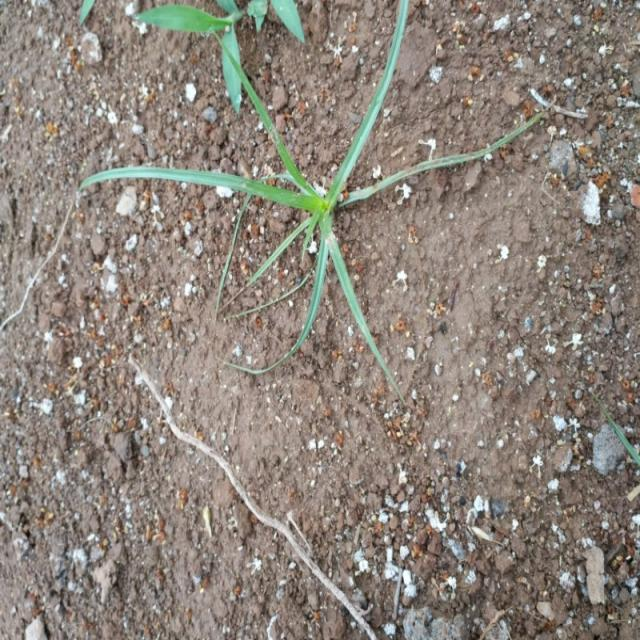sedge: (80, 92, 462, 385)
